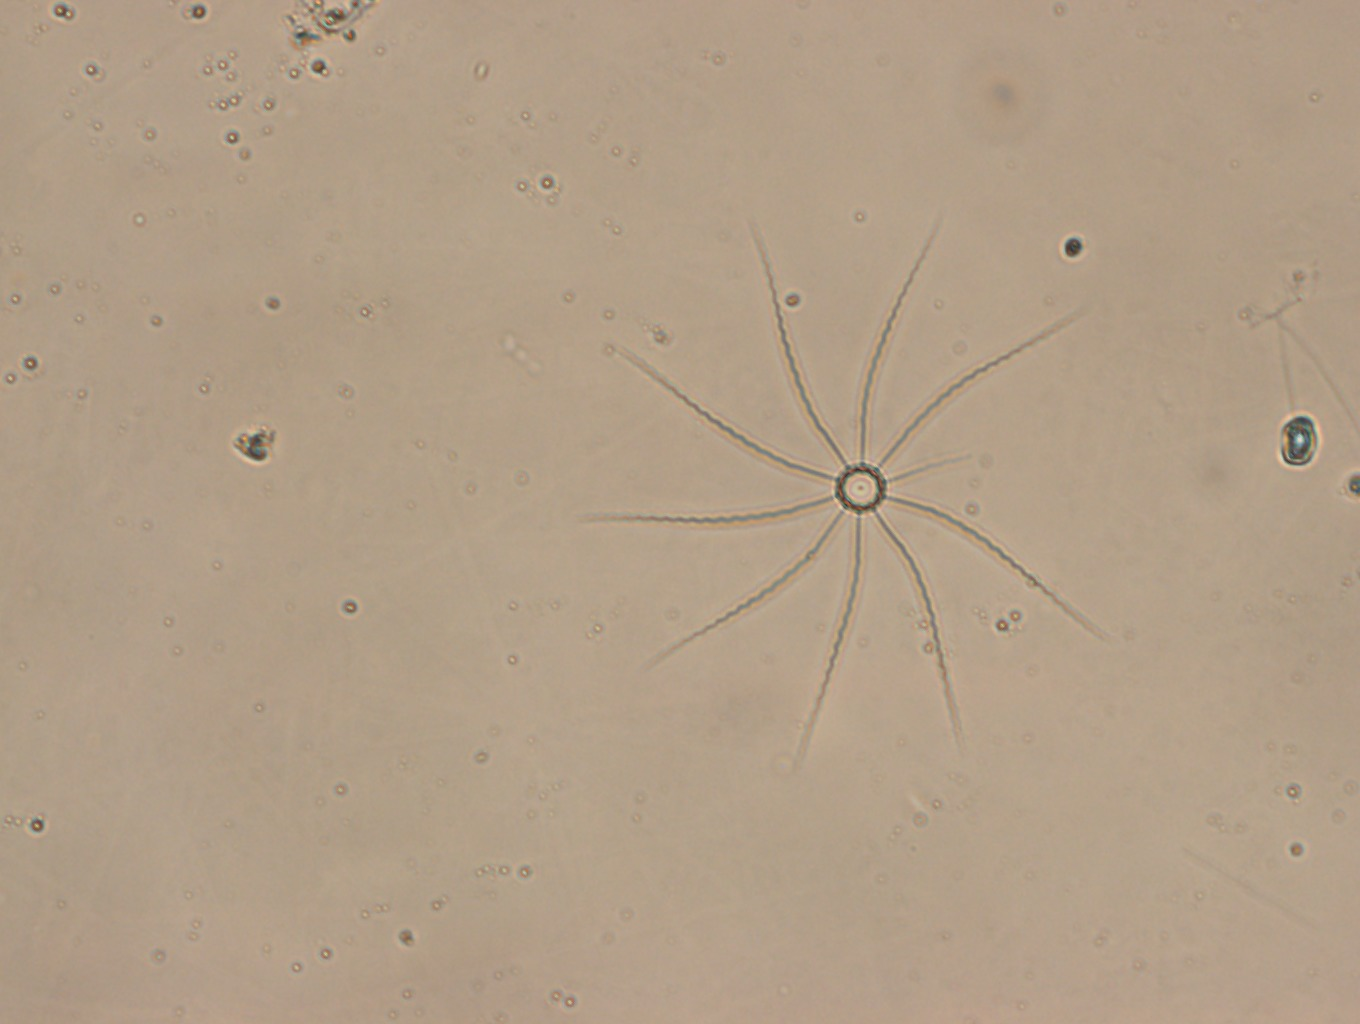bacteriastrum: (579, 204, 1112, 769)
